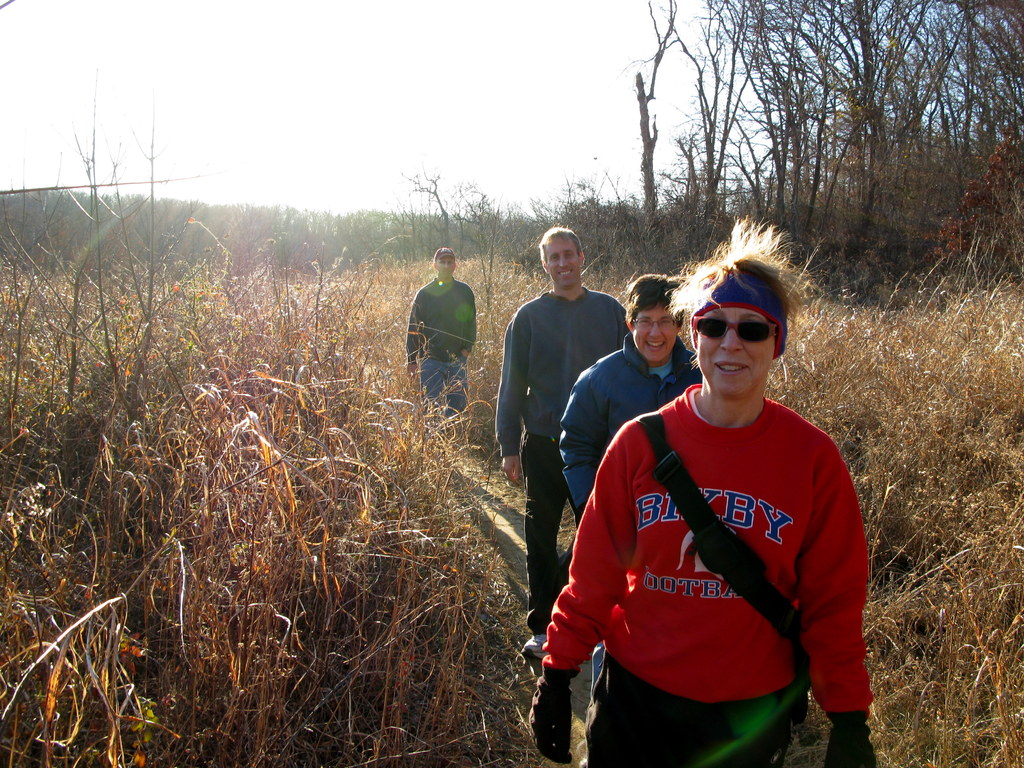Person: (527, 213, 876, 768), (556, 273, 699, 689), (494, 222, 627, 661), (405, 245, 477, 439)
